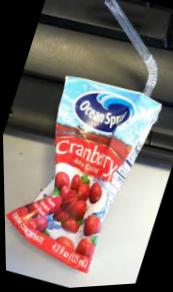cardboard: (3, 75, 171, 291)
